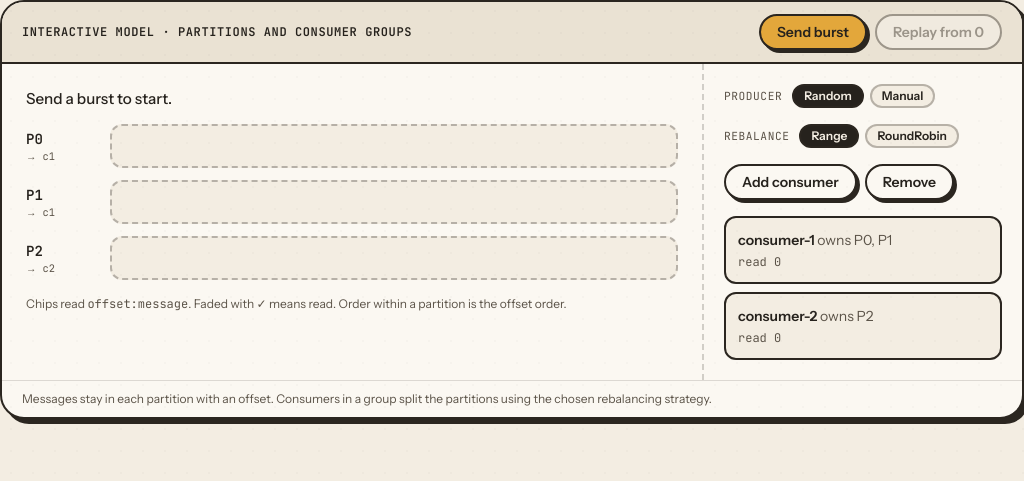
Test case: new demos › tributary demo rebalances and replays without deleting
The width and height of the screenshot is (1024, 481).
Expected: the text "owns P0, P1" is shown, [817,231,892,249]
Click the radio button labelled "RoundRobin" at (912, 136), box [866,124,959,148]
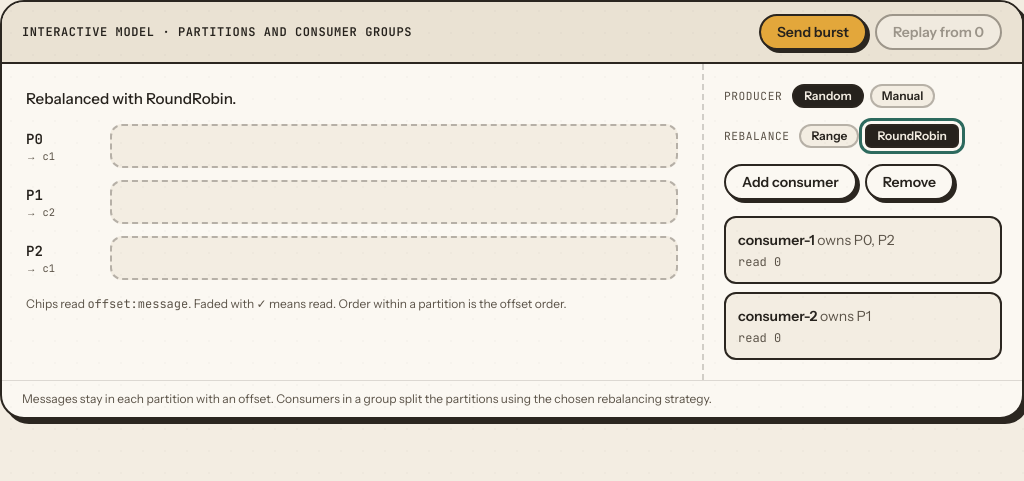
Expected: the text "owns P0, P2" is shown, [817,231,894,249]
Click the radio button labelled "Manual" at (903, 96), box [870,84,935,108]
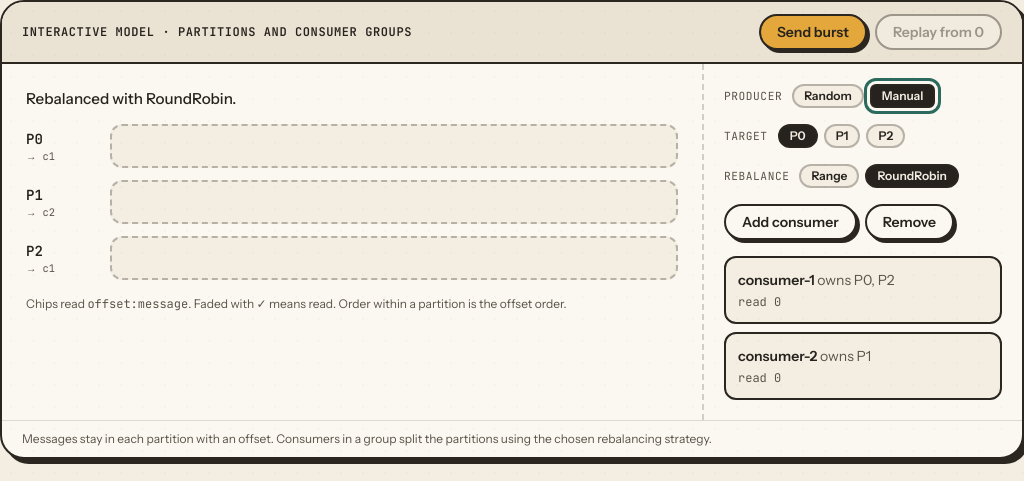
Click the button "Send burst" at (813, 32), box [759,14,867,50]
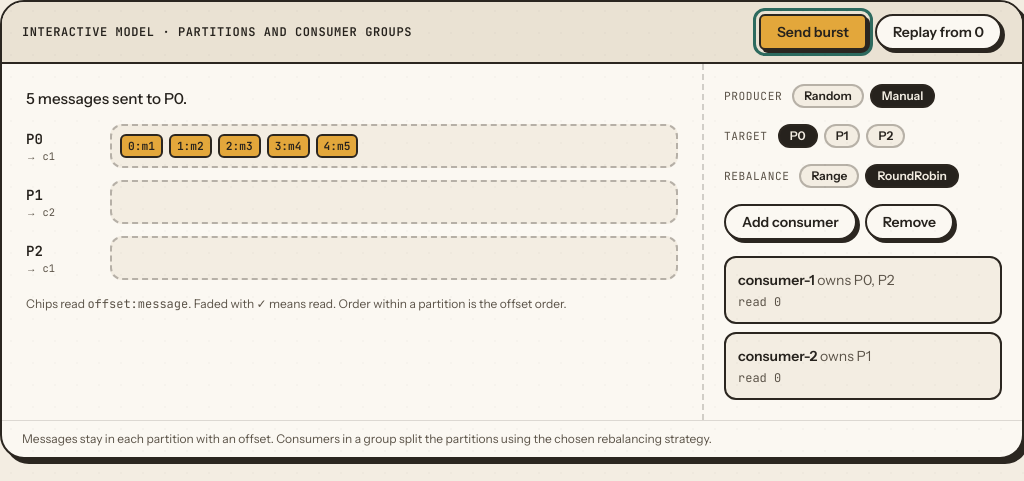
Expected: the text "5 messages sent to P0." is shown, [26,89,187,108]
Click the button "Replay from 0" at (938, 32), box [875,14,1002,50]
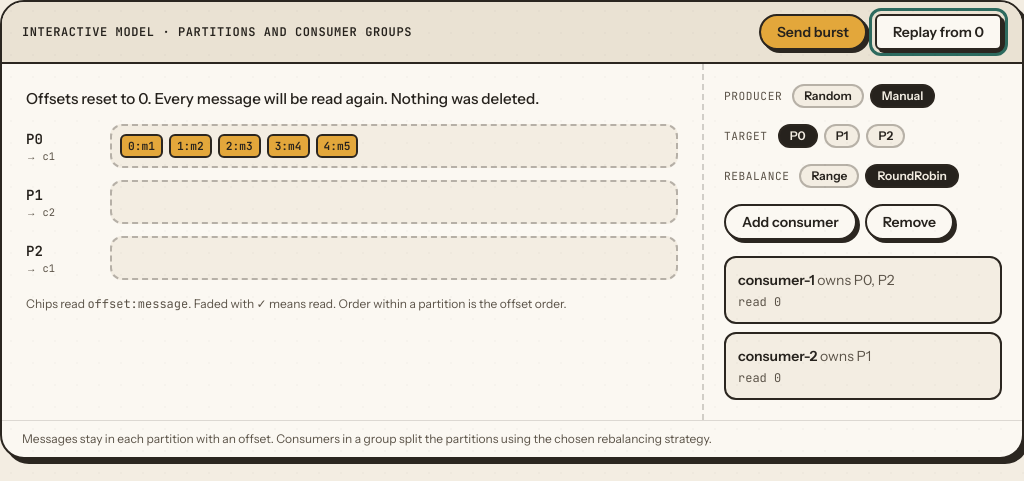
Expected: the text "Nothing was deleted" is shown, [26,89,539,108]
